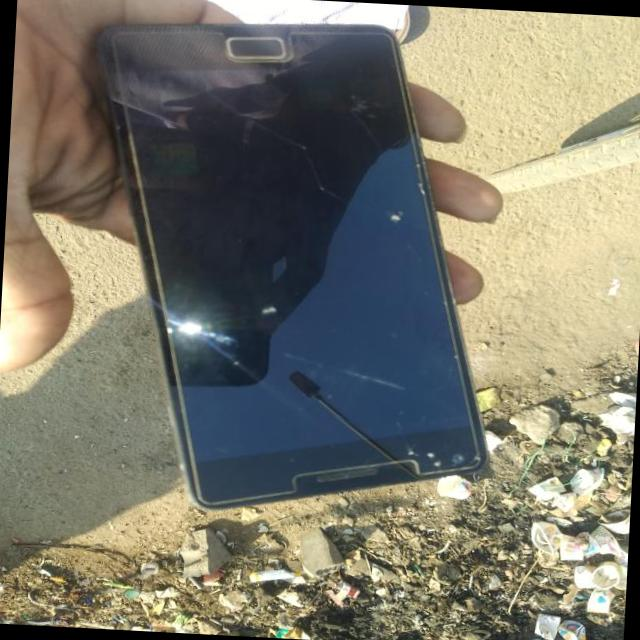screen crack: (160, 297, 488, 474), (400, 148, 442, 260)
